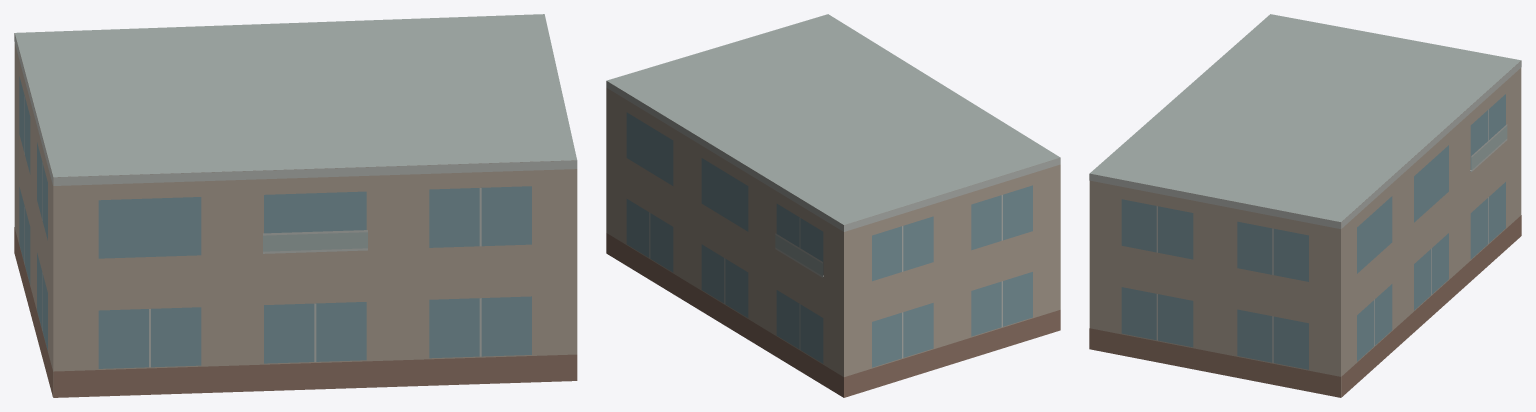
The model's file is survey-upis-32680256.glb.
3 renders of one model, left to right at view 1: azimuth 30°, elevation 25°; view 2: azimuth 150°, elevation 25°; view 3: azimuth 270°, elevation 25°, orthographic. The views are drawn at different scales.
Visible parts, largest first — view 1: survey-upis-32680256.tmp; view 2: survey-upis-32680256.tmp; view 3: survey-upis-32680256.tmp.
Boxes of the visible parts, <box> form: survey-upis-32680256.tmp: <box>14,14,577,397</box>; survey-upis-32680256.tmp: <box>606,14,1060,397</box>; survey-upis-32680256.tmp: <box>1089,14,1521,397</box>.
Size of the model in its own units: 15.51 by 6.1 by 13.6.
